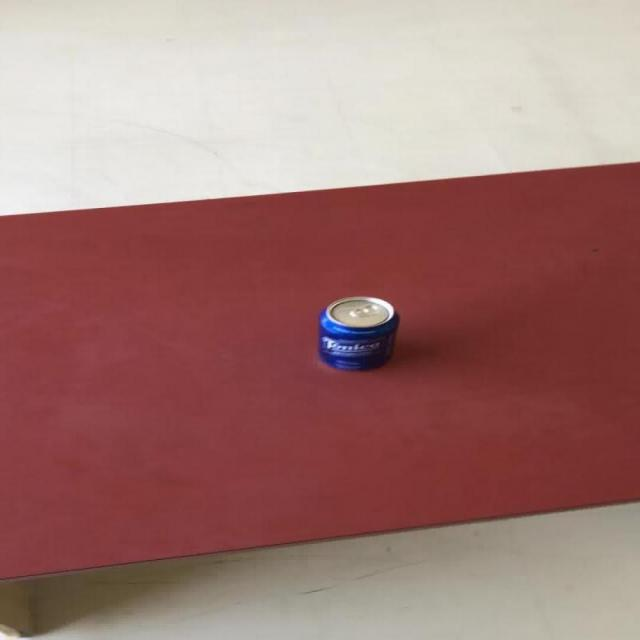Tonic: (316, 294, 400, 371)
